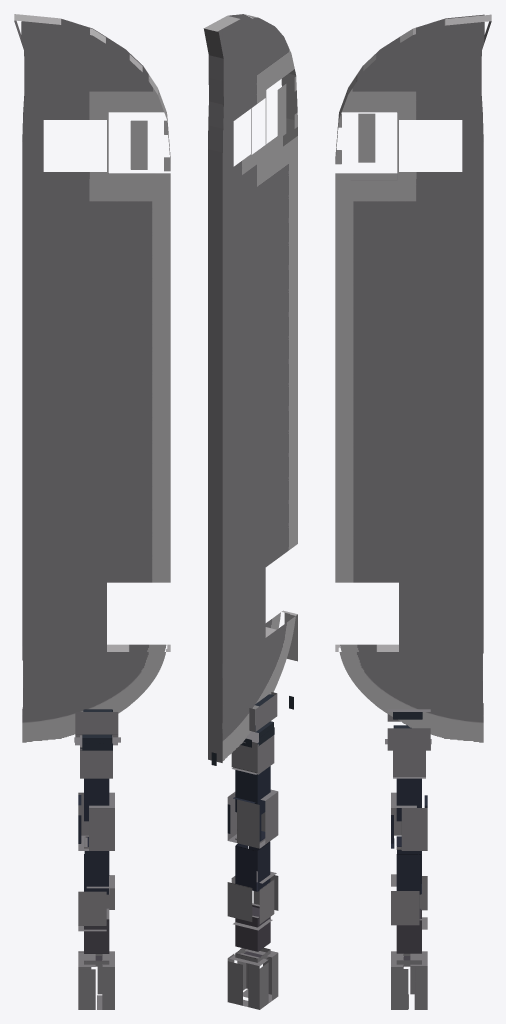
Rendered from kubikiribocho.obj.
The picture shows the model from 3 angles, left to right: view 1: azimuth 90°, elevation 25°; view 2: azimuth 150°, elevation 25°; view 3: azimuth 270°, elevation 25°; orthographic projection.
Parts seen in each view (by area): view 1: Cube.003_Cube.004; view 2: Cube.003_Cube.004; view 3: Cube.003_Cube.004.
Part boxes in pixels (box(x1,y1,x2,y2)): Cube.003_Cube.004: box(14, 14, 170, 1009); Cube.003_Cube.004: box(203, 14, 297, 1009); Cube.003_Cube.004: box(335, 14, 491, 1009).
Bounding box in the file's own units: 25.22 × 747 × 109.
